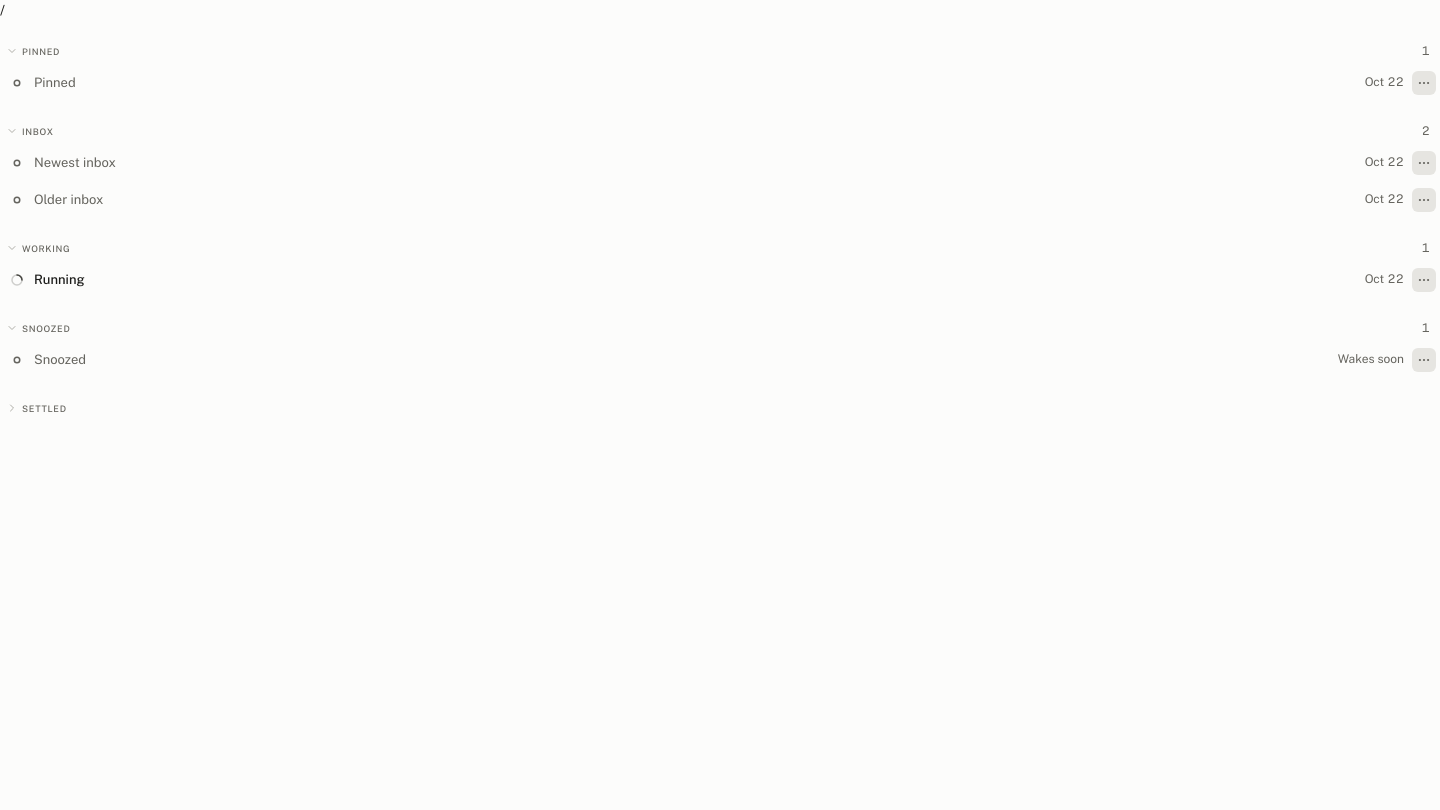
Test case: ⌘Z › undoes a pin while its toast shows
Click the button named "Actions for Older inbox": (1424, 200) [1412,188,1436,212]
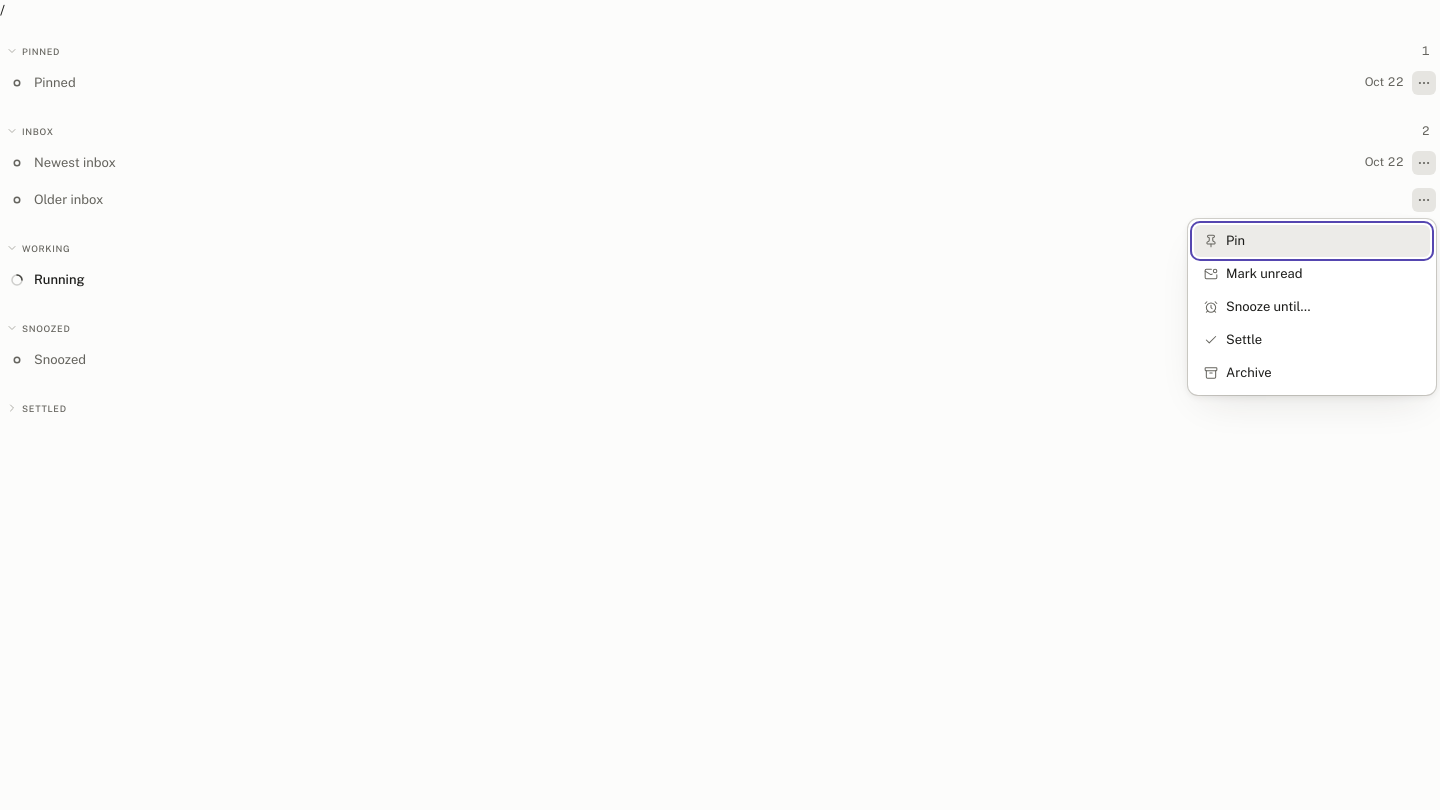
Click the button "Pin": (1312, 241) [1194,225,1430,257]
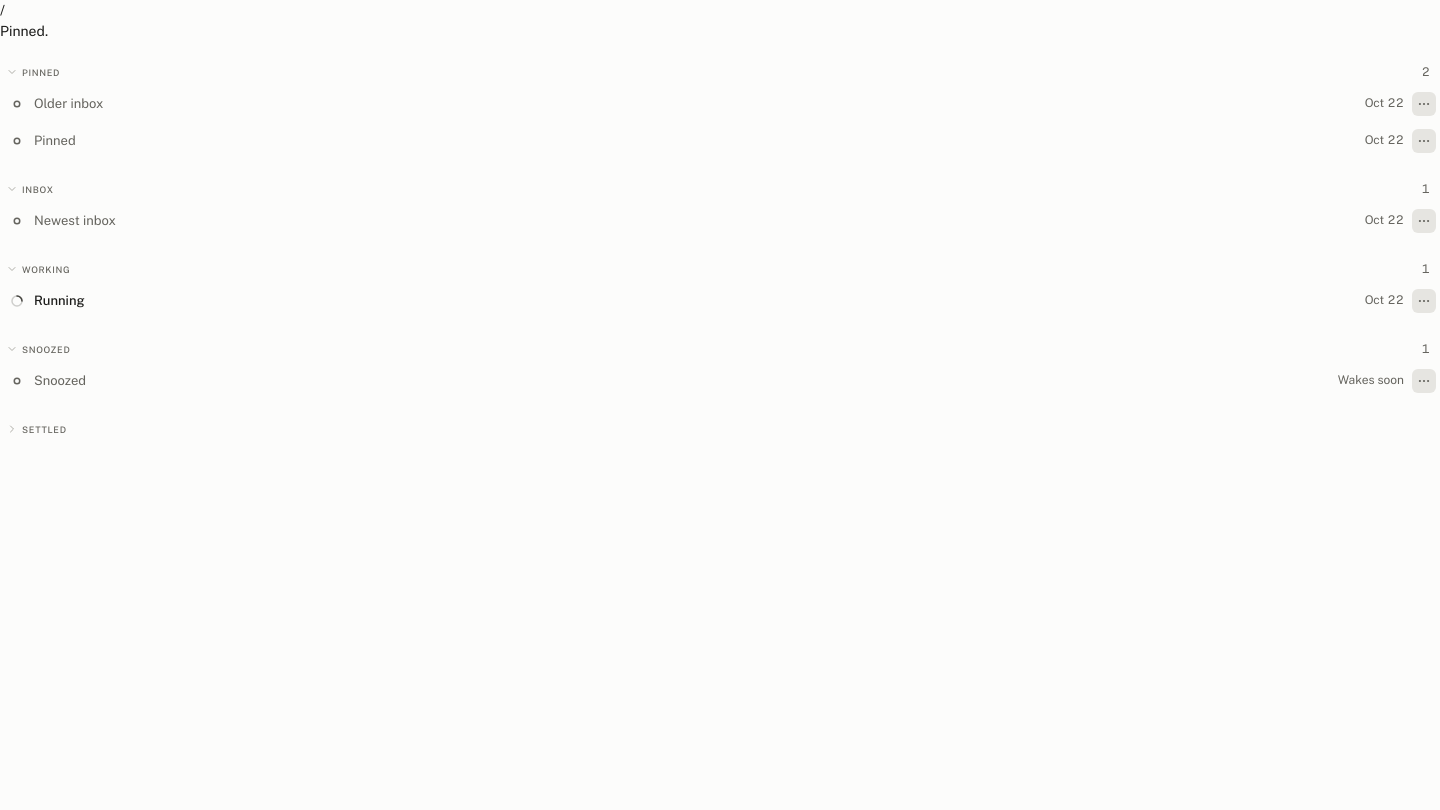
Result: the text "Pinned." is shown at [0,23,48,39]
Press z
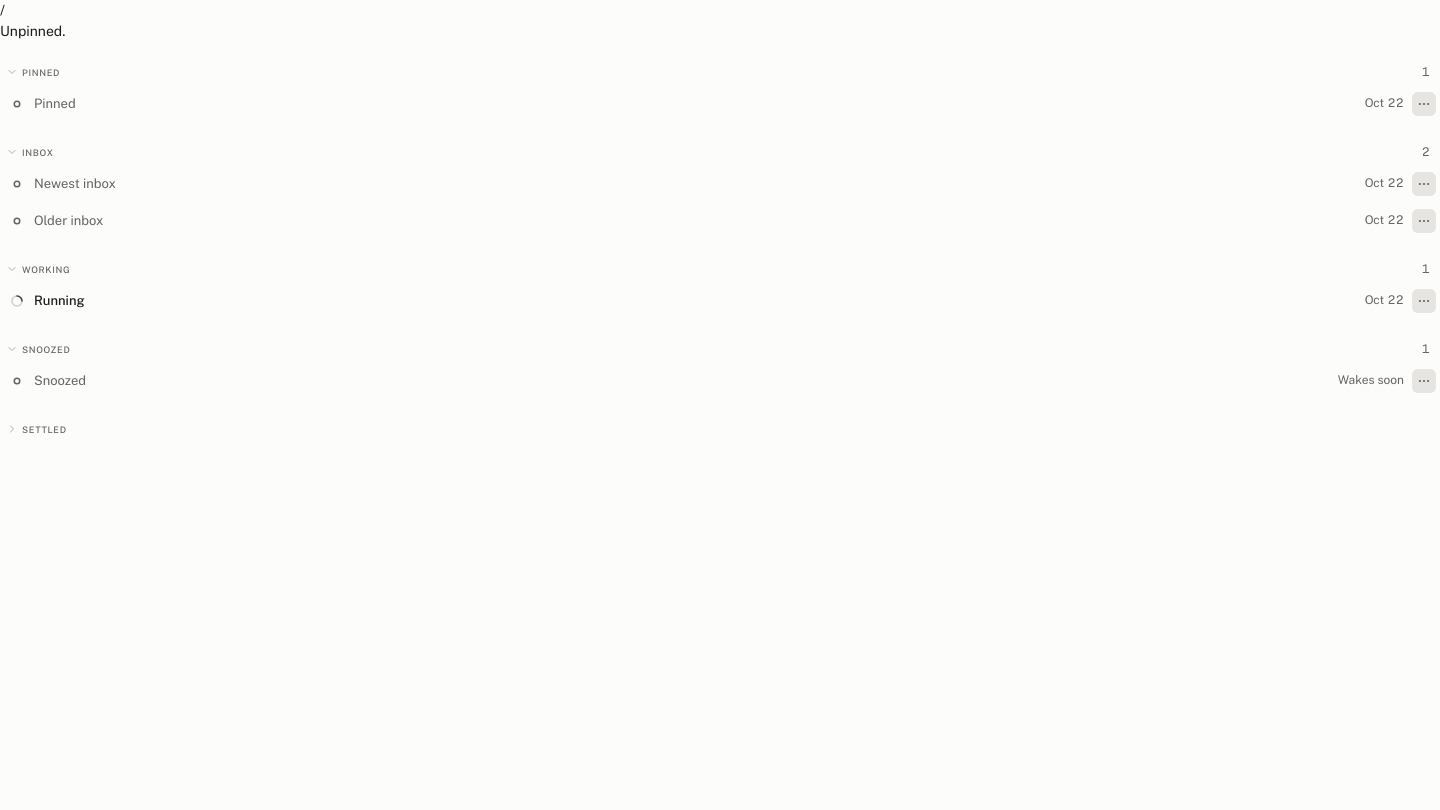
Result: the text "Unpinned." is shown at [0,23,65,39]
